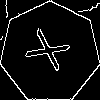X: (25, 27, 79, 78)
